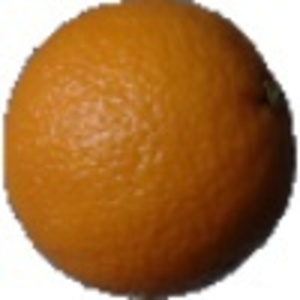laranja: (5, 5, 297, 300)
